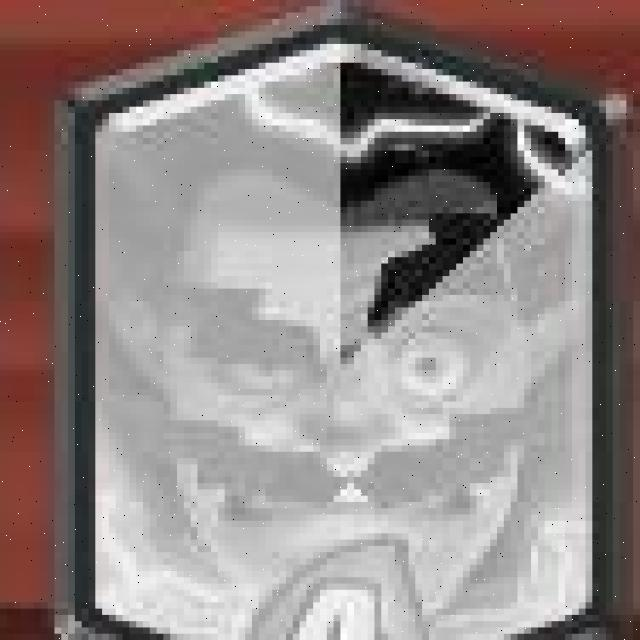Electro_Wizard: (62, 0, 611, 640)
